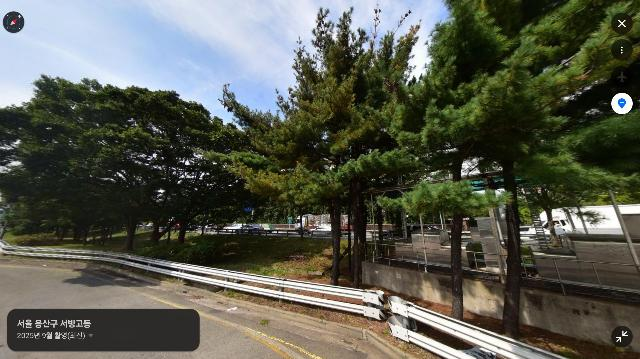other: (352, 0, 567, 323), (437, 0, 640, 341), (272, 5, 427, 293), (151, 82, 363, 289), (0, 73, 244, 252), (513, 115, 640, 250)
